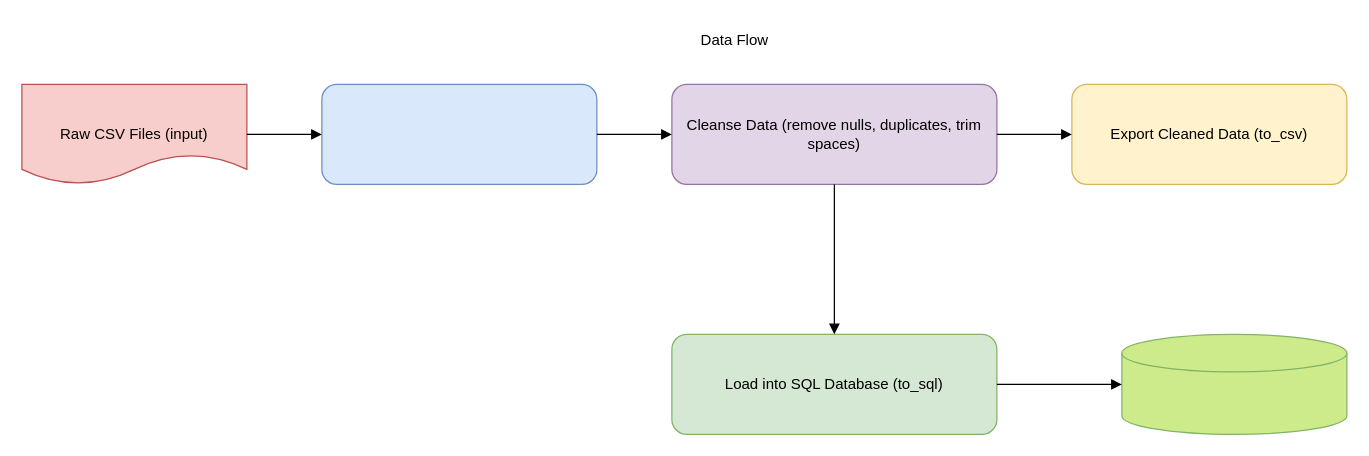
The diagram is 1369 pixels wide and 456 high, and some of its shapes have lost their labels. The centre of each missing label's shape, as x and y in pixels:
Read CSV with Pandas (pd.read_csv): point (459, 133)
SQL Database (PostgreSQL / MySQL): point (1234, 383)
